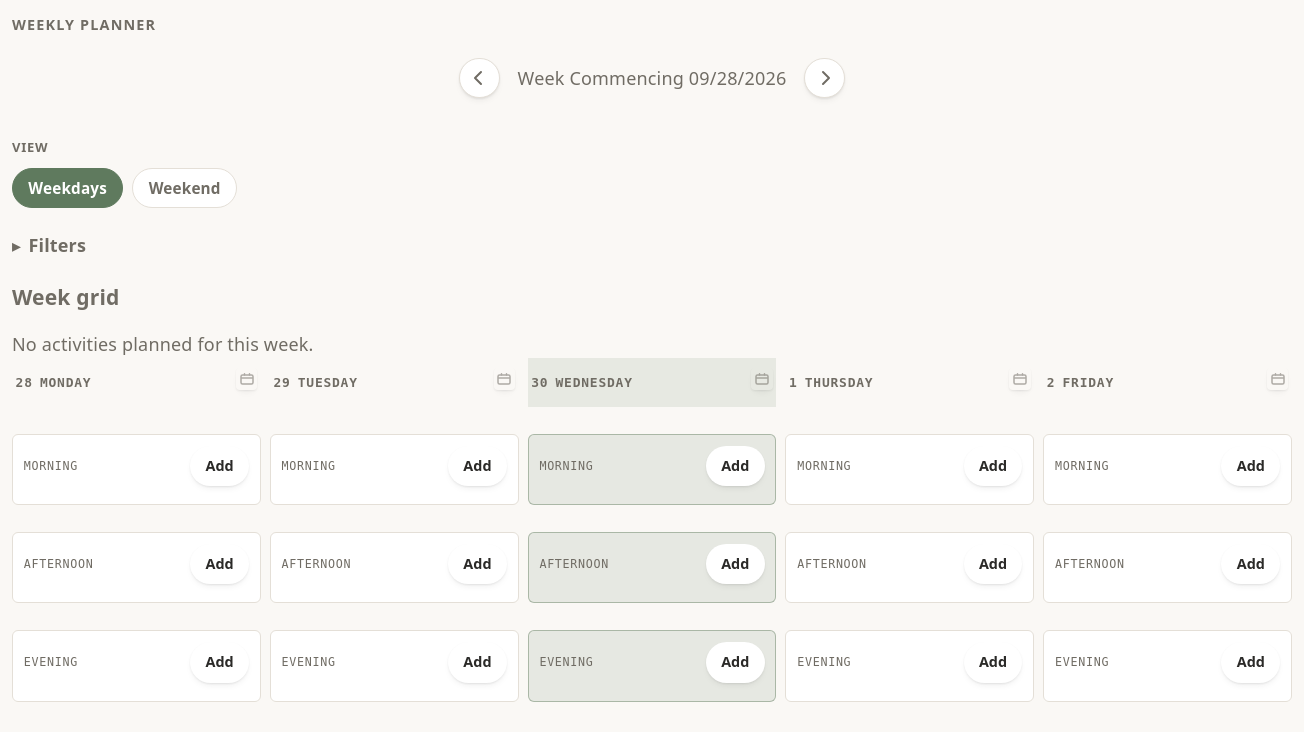
Test case: WeeklyPlanner › FRONTEND-015-AC-01/AC-02/AC-03: Weekdays/Weekend tab switches the grid › shows the Weekdays grid by default and the Weekend grid after switching
expect the radio button labelled "Weekdays" is shown: met, box [12,168,123,208]
expect the text "Monday" is shown: met, box [40,375,91,390]
Click the radio button labelled "Weekend" at (185, 188), box [132,168,237,208]
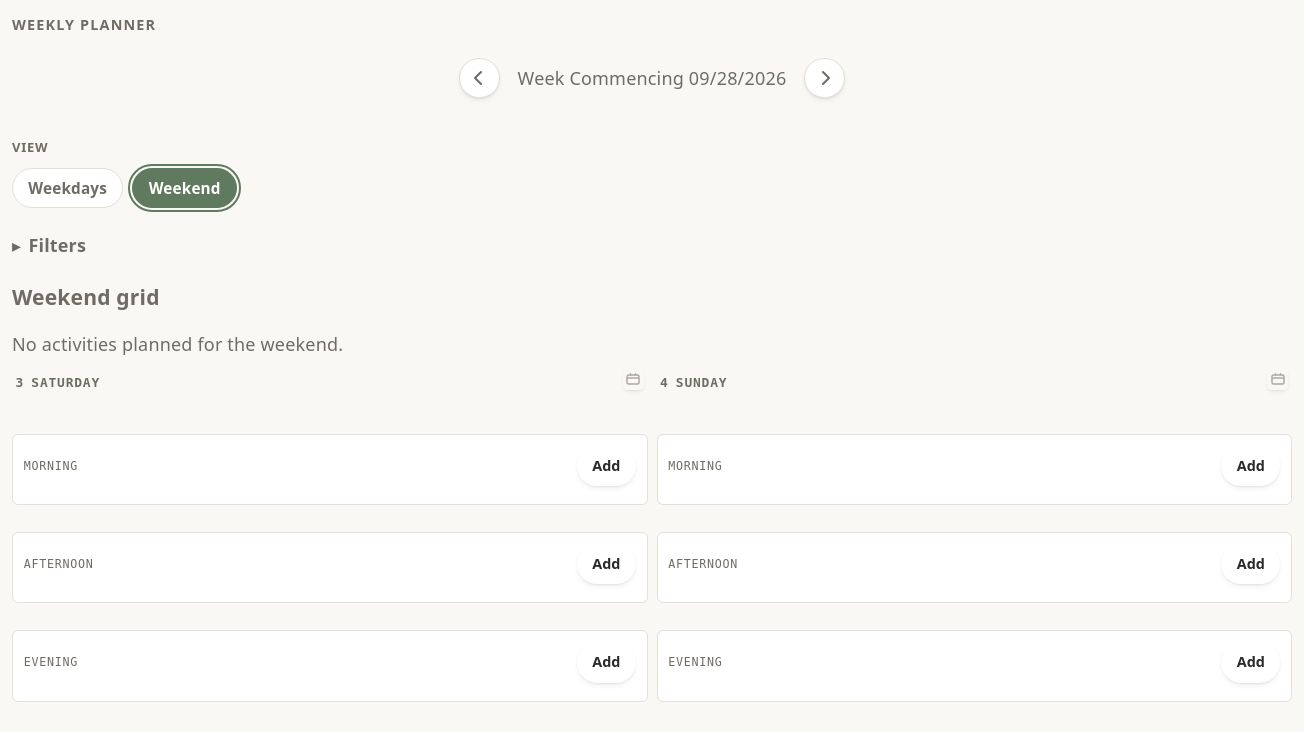
expect the text "Saturday" is shown: met, box [31,375,100,390]
expect the text "Sunday" is shown: met, box [676,375,727,390]
expect the text "Monday" is gone: met
